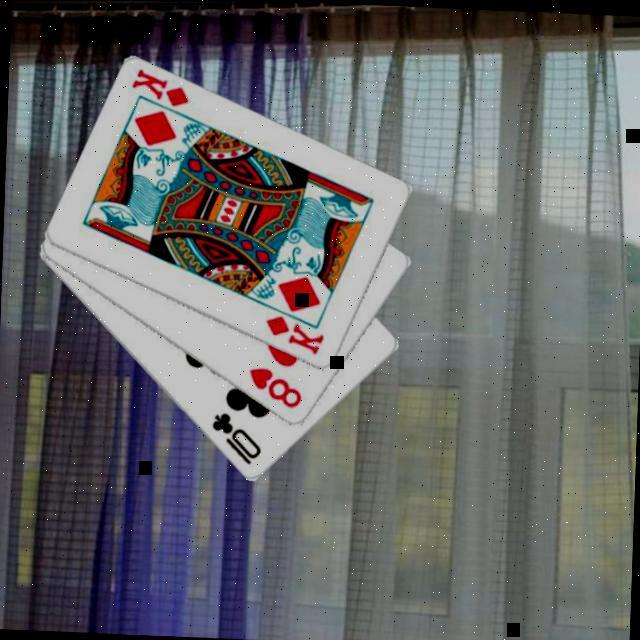10C: (209, 407, 267, 467)
8H: (245, 362, 308, 410)
KD: (262, 310, 330, 356), (130, 65, 193, 109)
